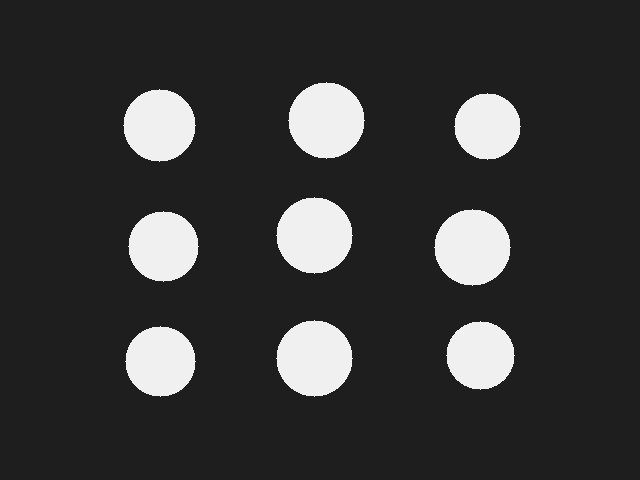hole: (288, 82, 364, 158), (276, 197, 352, 273), (434, 209, 510, 285), (276, 320, 352, 396), (123, 89, 195, 161), (128, 211, 198, 281), (125, 326, 195, 396), (446, 321, 514, 389), (454, 93, 520, 159)
